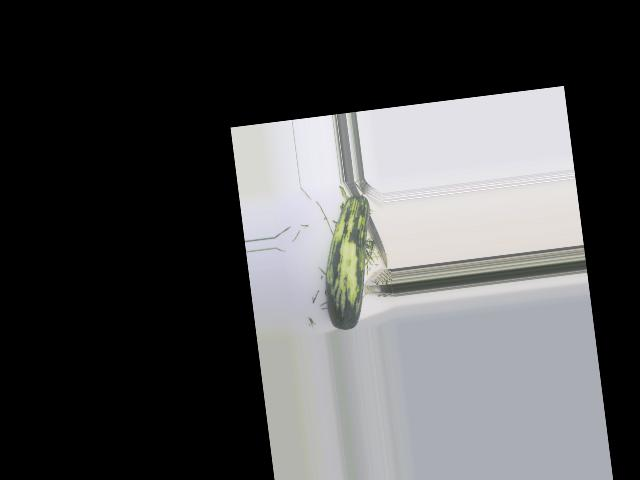cucumber: (313, 193, 384, 331)
